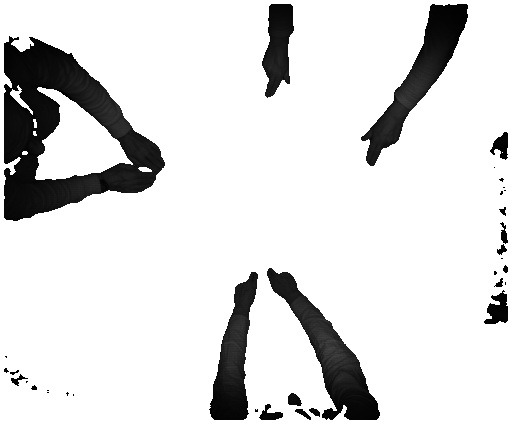hand: (360, 112, 407, 167), (256, 47, 295, 103), (123, 131, 167, 175), (104, 165, 158, 199), (266, 264, 304, 300), (232, 272, 262, 311)
